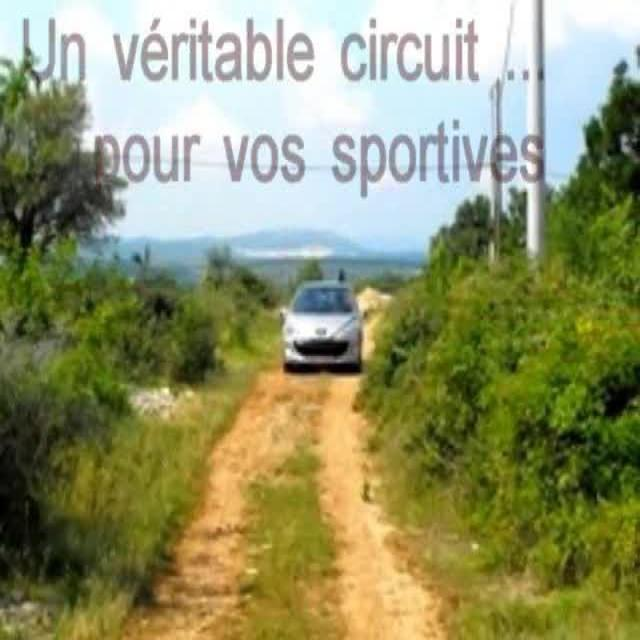other: (327, 236, 402, 427)
